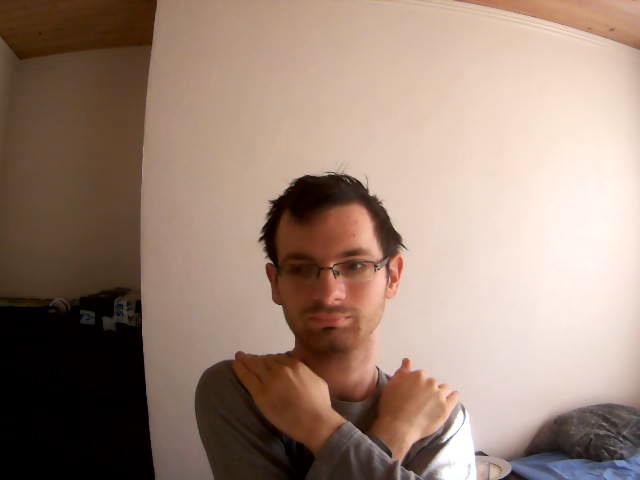butterfly: (231, 341, 464, 461)
